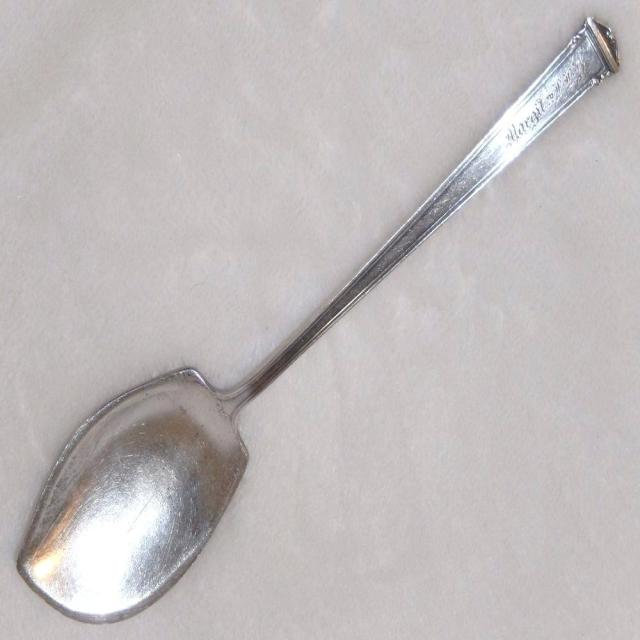spoon: (13, 5, 639, 623)
